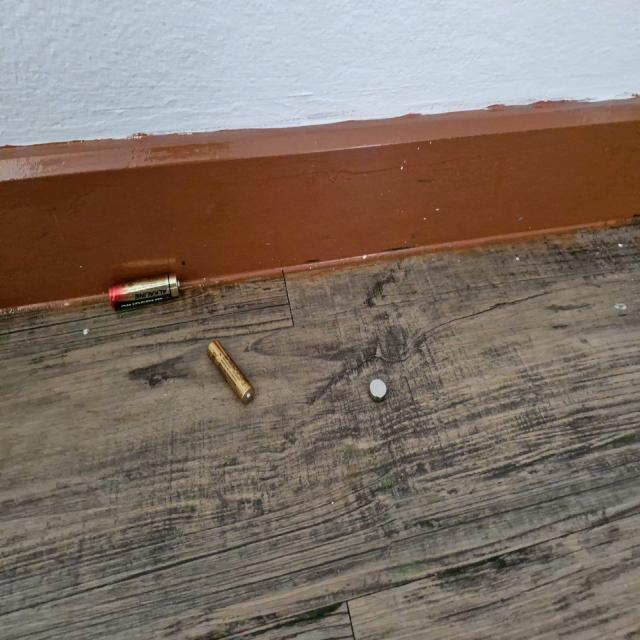battery: (208, 342, 256, 406), (369, 374, 389, 402)
